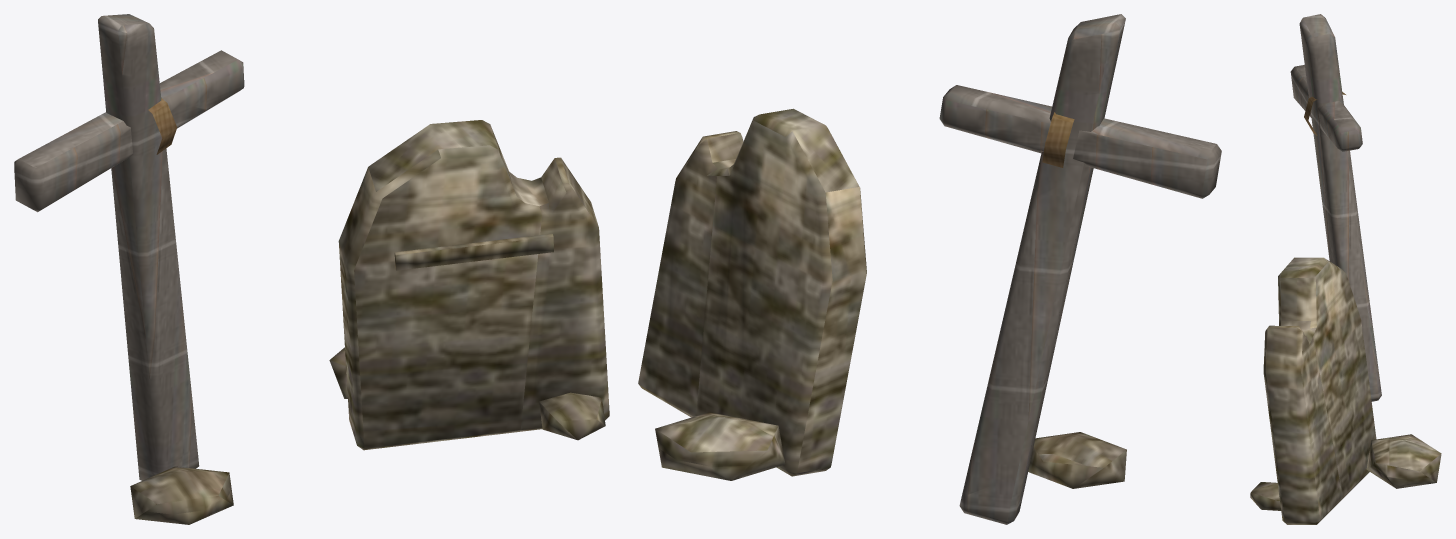
Rendered from grave_marker.glb.
3 views of the same model, side by side, from view 1: azimuth 30°, elevation 25°; view 2: azimuth 150°, elevation 25°; view 3: azimuth 270°, elevation 25° (orthographic). The views are drawn at different scales.
Parts seen in each view (by area): view 1: grave_marker; view 2: grave_marker; view 3: grave_marker.
Boxes of the visible parts, x1,y1,x2,y2 form: grave_marker: [14, 14, 609, 524]; grave_marker: [638, 14, 1221, 524]; grave_marker: [1250, 14, 1441, 524].
Bounding box in the file's own units: 1.28 × 1.07 × 0.5166.
Materials: 3 (3 with a texture image).
